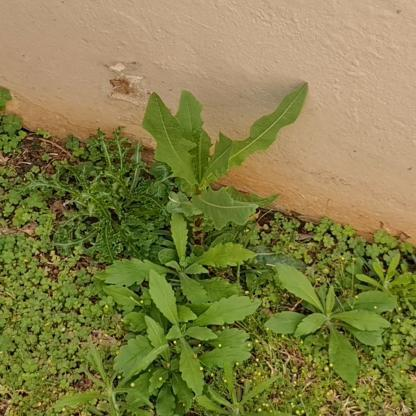Weeds: (141, 83, 309, 230), (102, 270, 262, 415), (18, 127, 176, 272), (265, 261, 398, 388), (95, 209, 257, 307), (46, 345, 156, 415), (197, 362, 277, 415), (359, 253, 412, 307)
